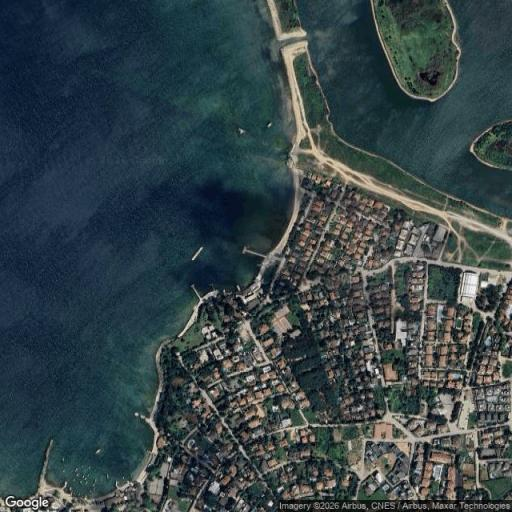ship: (191, 244, 205, 266), (62, 479, 69, 490), (94, 447, 101, 456), (104, 471, 111, 480), (93, 476, 98, 484), (88, 464, 92, 472), (61, 458, 68, 462), (69, 485, 73, 492), (74, 472, 79, 477), (63, 470, 67, 476), (74, 468, 78, 473), (122, 476, 126, 481), (87, 473, 90, 479), (71, 479, 77, 482), (82, 475, 86, 479), (79, 480, 83, 484), (91, 484, 97, 486), (86, 480, 88, 486)
